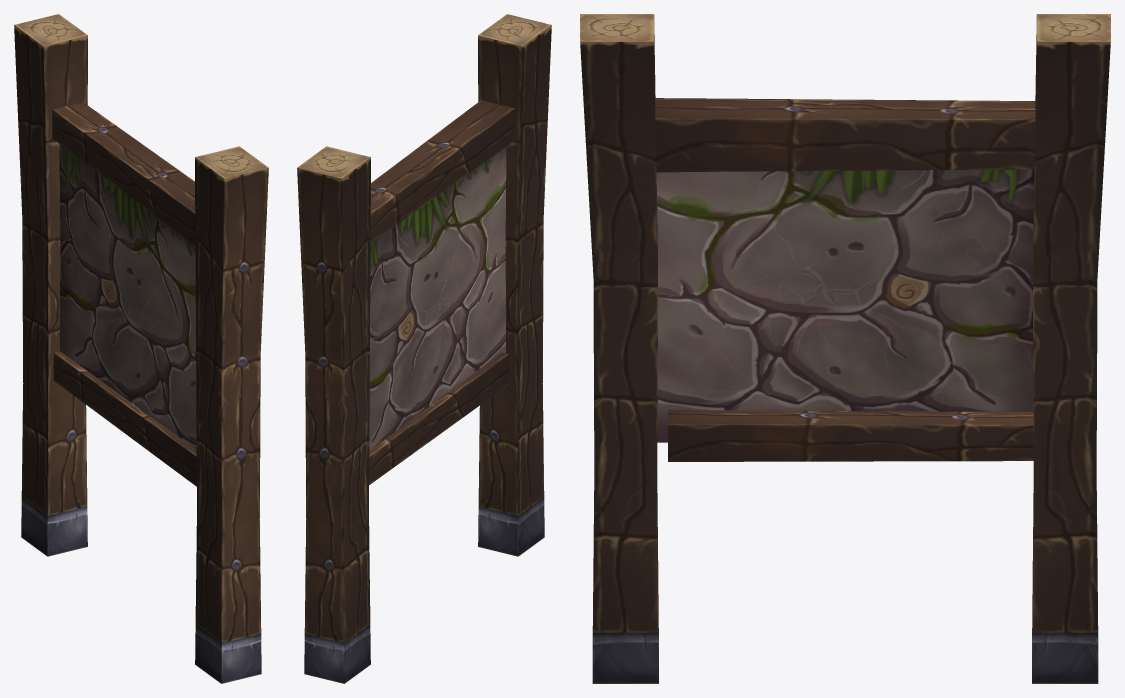
File: small_wall_side.fbx
3 views of the same model, side by side, from view 1: azimuth 30°, elevation 25°; view 2: azimuth 150°, elevation 25°; view 3: azimuth 270°, elevation 25° (orthographic). The views are drawn at different scales.
Parts seen in each view (by area): view 1: small_wall_side; view 2: small_wall_side; view 3: small_wall_side.
Boxes of the visible parts, box(x1,y1,x2,y2) form: small_wall_side: box(14, 14, 268, 683); small_wall_side: box(297, 14, 551, 683); small_wall_side: box(580, 14, 1110, 683).
Bounding box in the file's own units: 0.8937 × 9.72 × 7.26.
